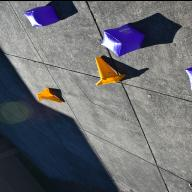cone: (95, 56, 127, 84), (36, 87, 62, 102)
cube: (100, 22, 146, 56), (24, 4, 60, 26), (184, 67, 192, 90)
